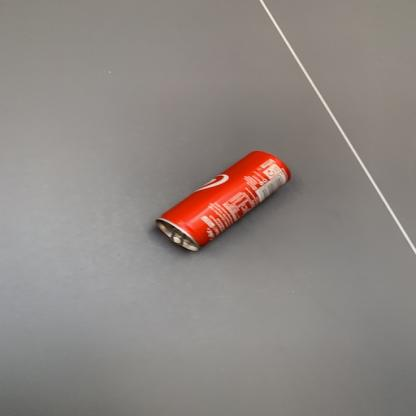trash: (152, 148, 292, 256)
